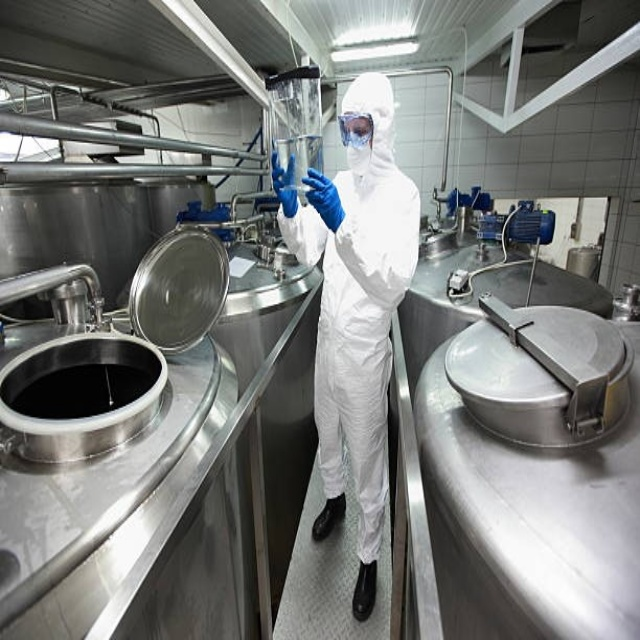Gafas: (338, 113, 374, 148)
Guantes: (301, 167, 345, 234), (270, 153, 299, 220)
Mascara: (346, 132, 374, 176)
